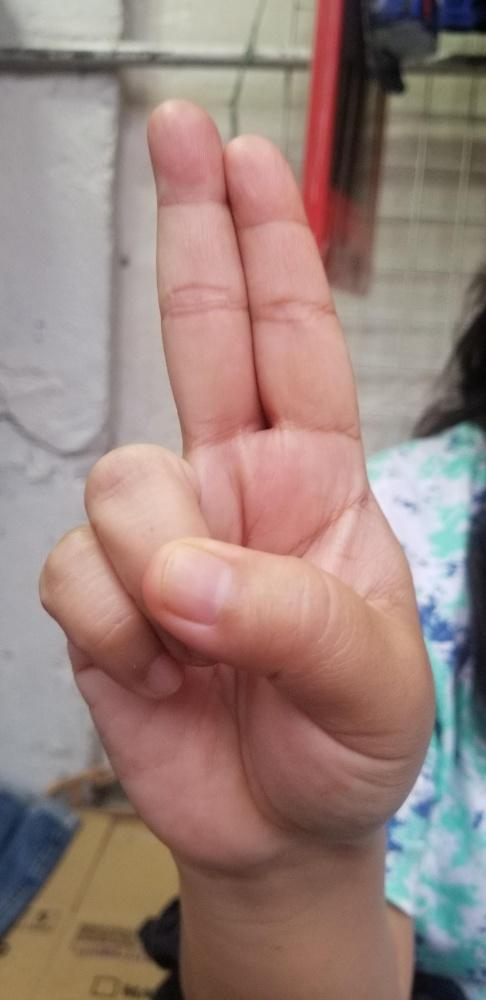u: (35, 99, 437, 864)
